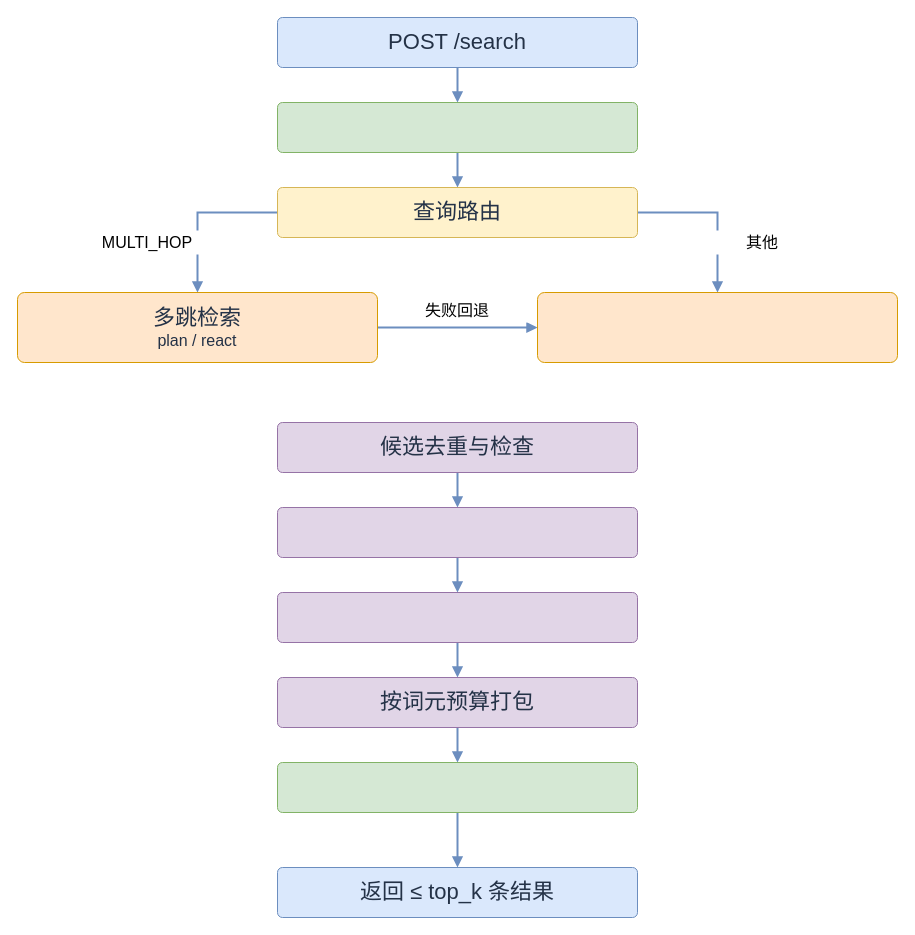
This 915x935 diagram has some shape labels left out. The box of each missing label's shape, as (x1, y1, x2, y2) in pixels:
事实追加: (276, 762, 638, 812)
参数校验: (276, 102, 638, 152)
混合检索 BM25 + dense → RRF: (536, 292, 898, 362)
精排: (276, 506, 638, 558)
邻居扩窗与段合并: (276, 592, 638, 642)
